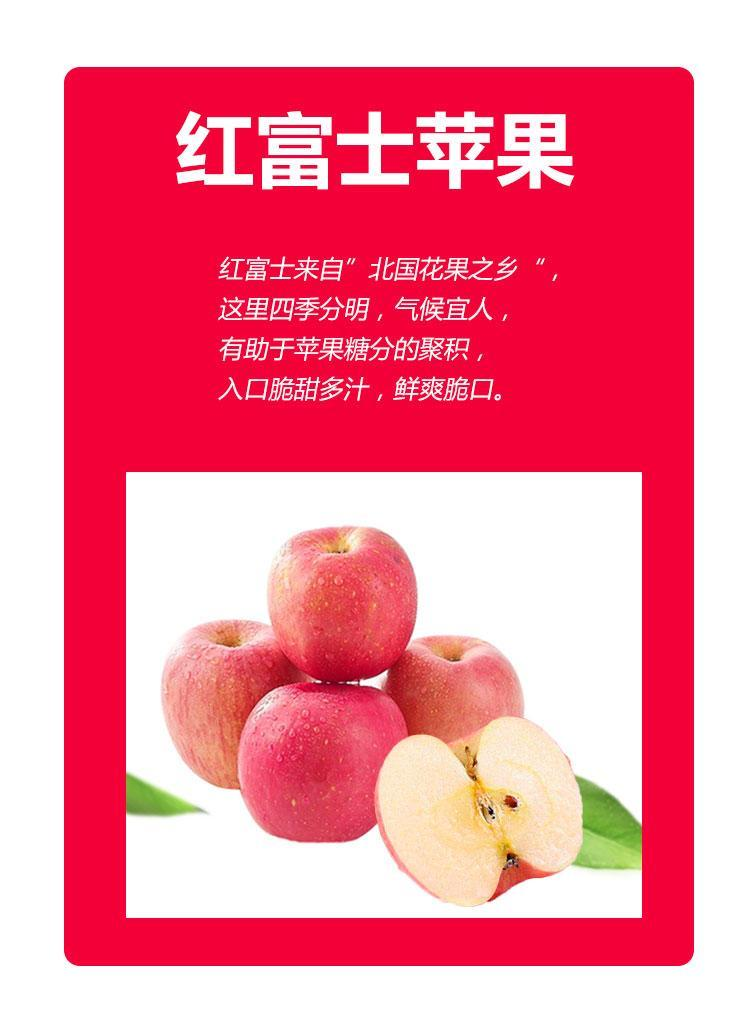apple: (377, 716, 589, 904), (237, 684, 409, 845), (261, 524, 419, 686), (158, 618, 294, 794), (383, 634, 524, 748)
